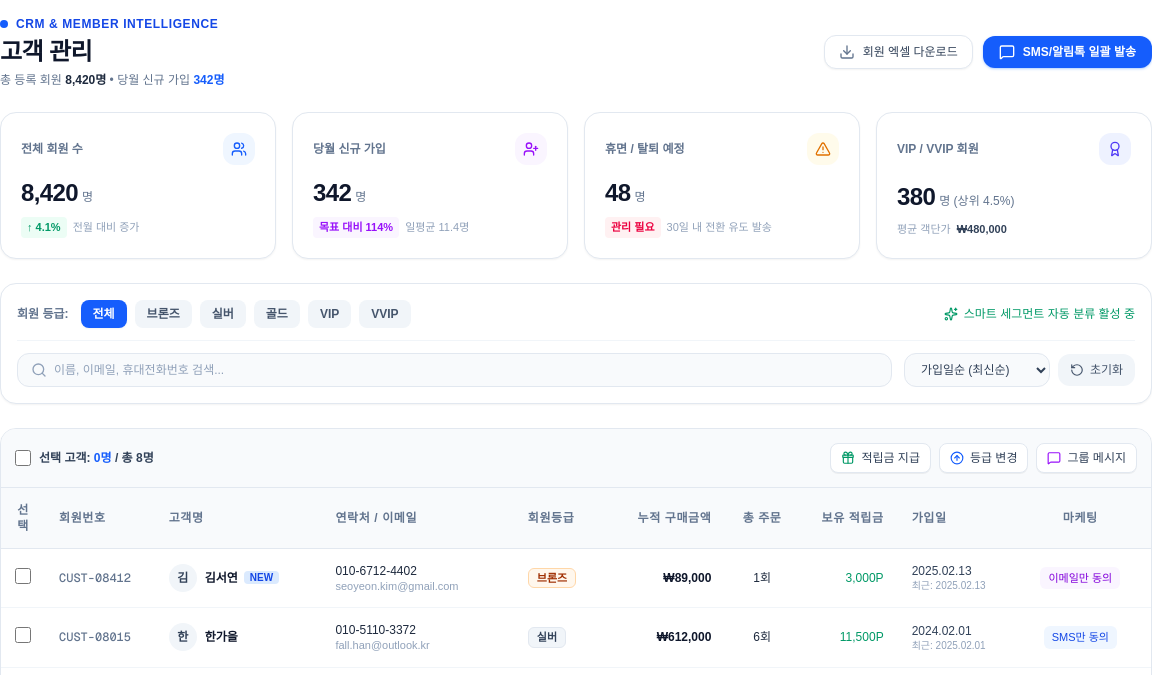
Test: CustomerView Presentation Component › should reset filters when reset button is clicked
Type "박지헌" into the field with placeholder "이름, 이메일, 휴대전화번호 검색...". click: (454,370)
box: top-left (17, 352), bottom-right (892, 386)
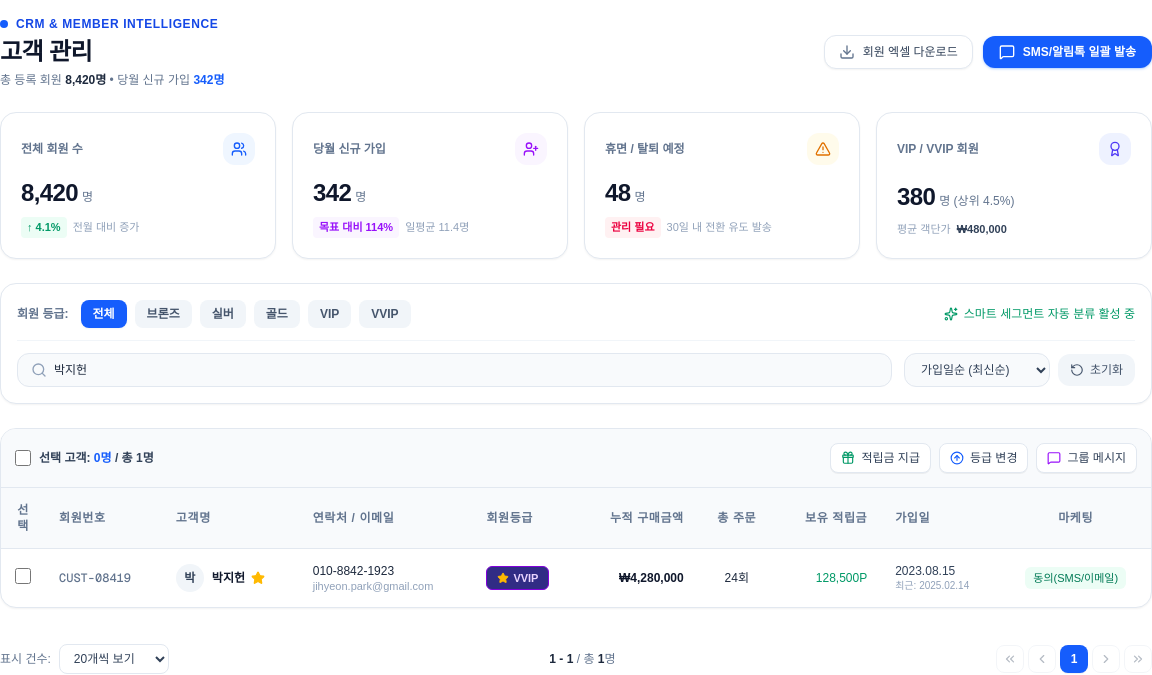
Click the button titled "초기화". click: (1096,370)
box: top-left (1058, 354), bottom-right (1135, 386)
(page scrolled)
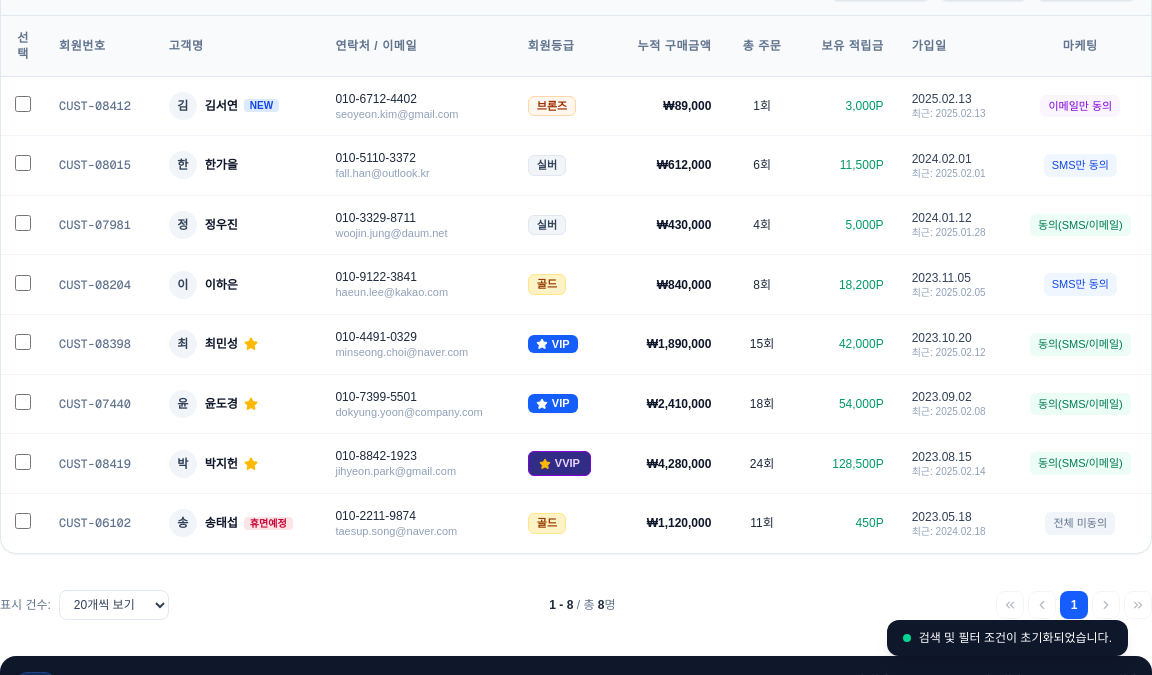
expect the link "최민성" is shown: met, box top-left (205, 336), bottom-right (238, 352)
